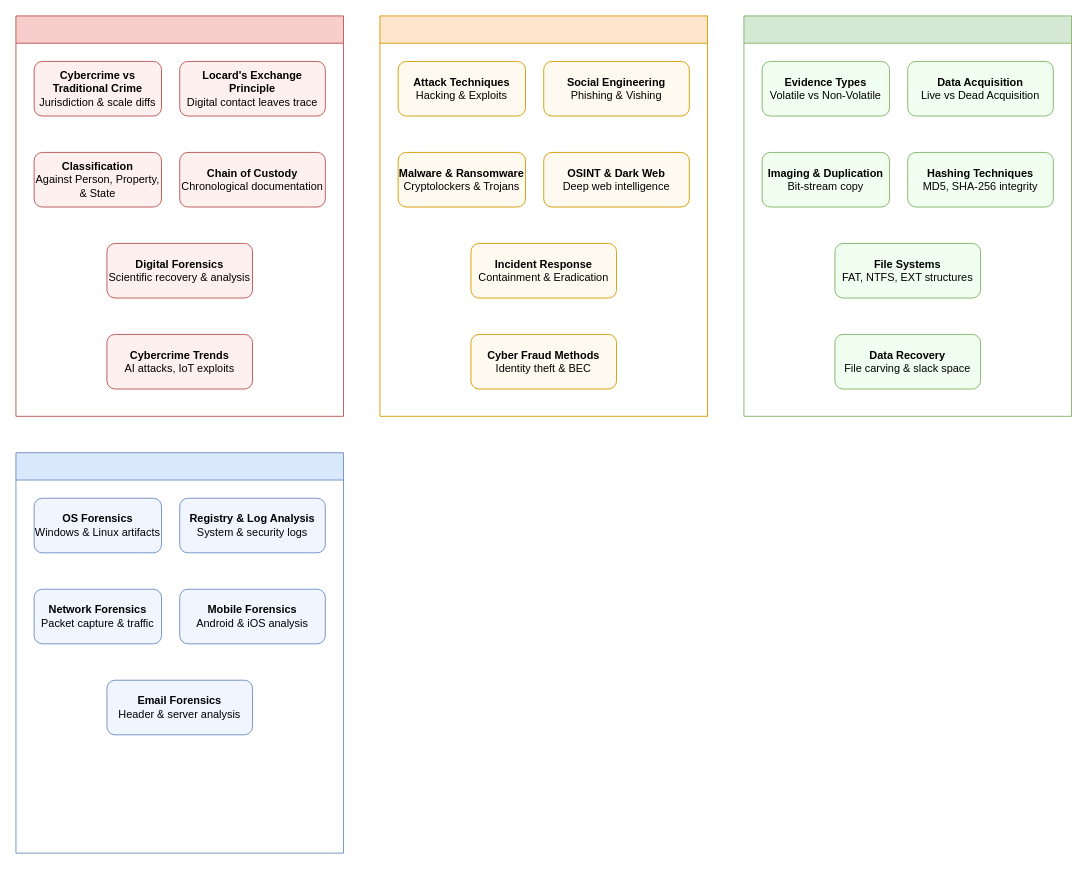
Image size: 1087x869. Some labels were removed from this diagram. Each missing label, with the box of its shape:
1. Cybercrime & Fundamentals: (15, 15, 344, 416)
2. Cyber Attack Techniques: (379, 15, 708, 416)
3. Digital Evidence & Acquisition: (743, 15, 1072, 416)
4. Forensic Analysis Domains: (15, 452, 344, 853)
